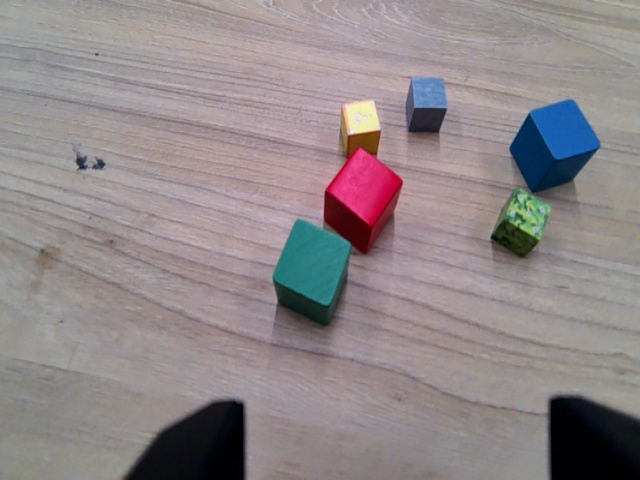grass: (490, 184, 552, 259)
lucky: (334, 93, 387, 162)
stone: (401, 73, 451, 138)
